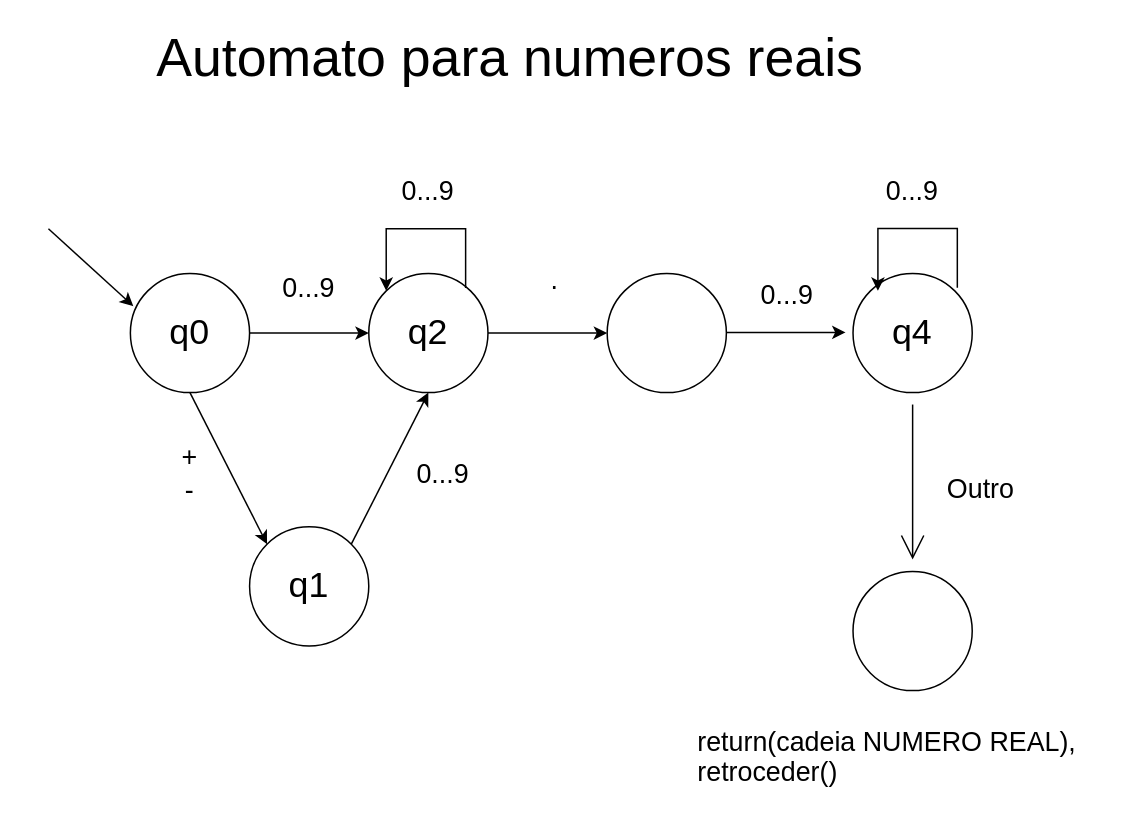
Some shapes in this 1131 by 821 pixel diagram are drawn without their labels. Here are the shapes that lost their labels. From the top down, the centre of each, then its label:
At point (666, 332): "q3".
At point (912, 630): "q5".
